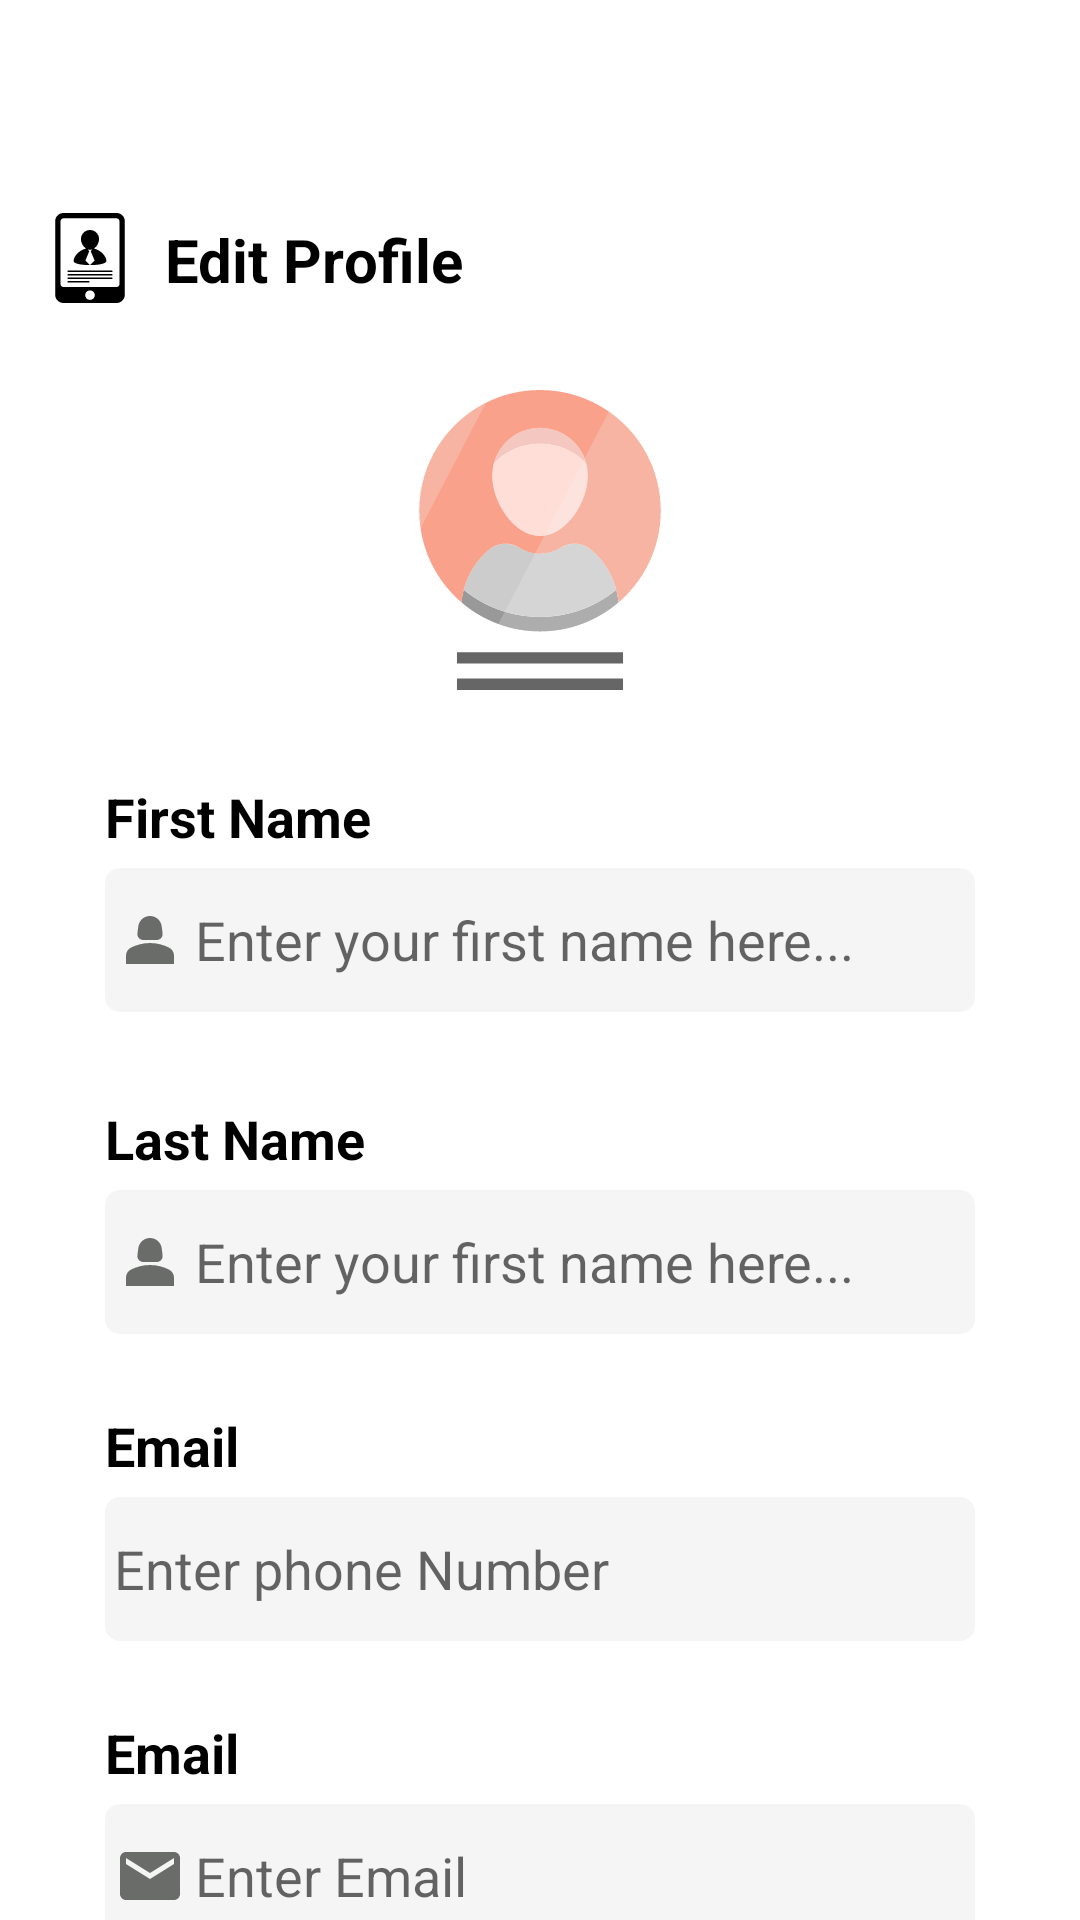

Locate icon controls on the screen. Image size 1080*1920, boxes as (x1, y1, x2, y2).
update profile: (55, 213, 125, 303)
